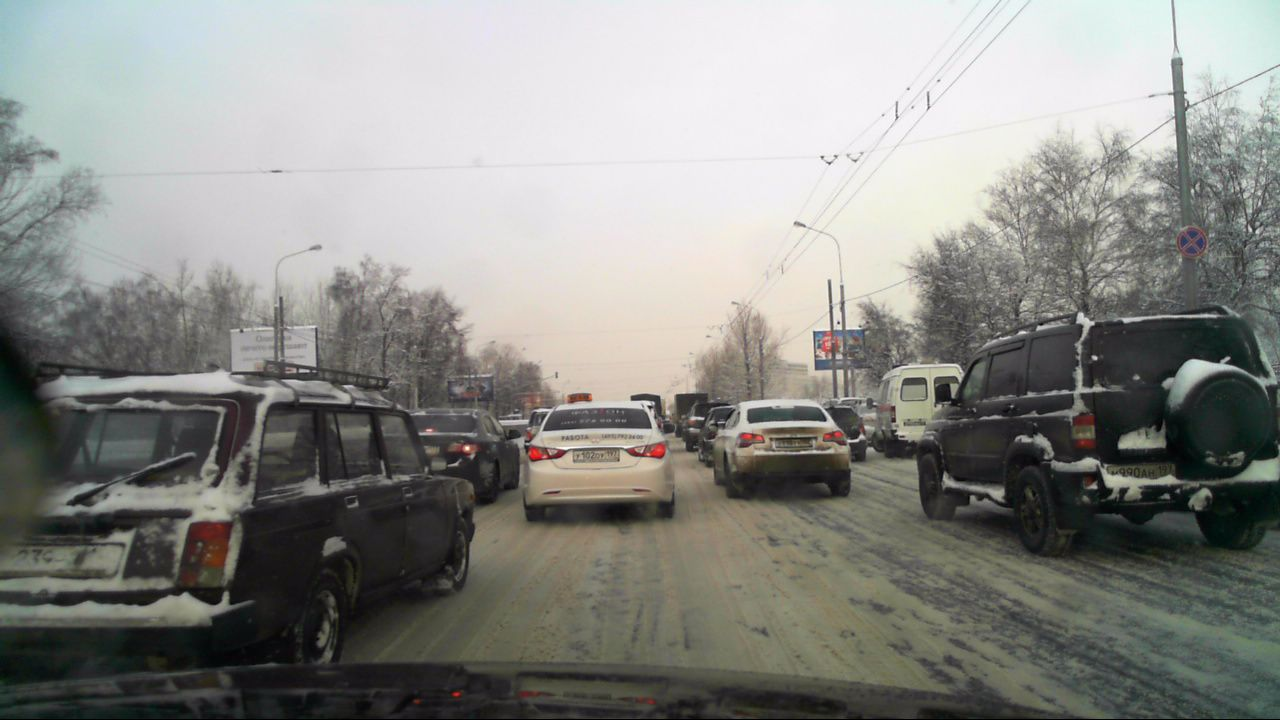No Parking: (1178, 224, 1209, 261)
